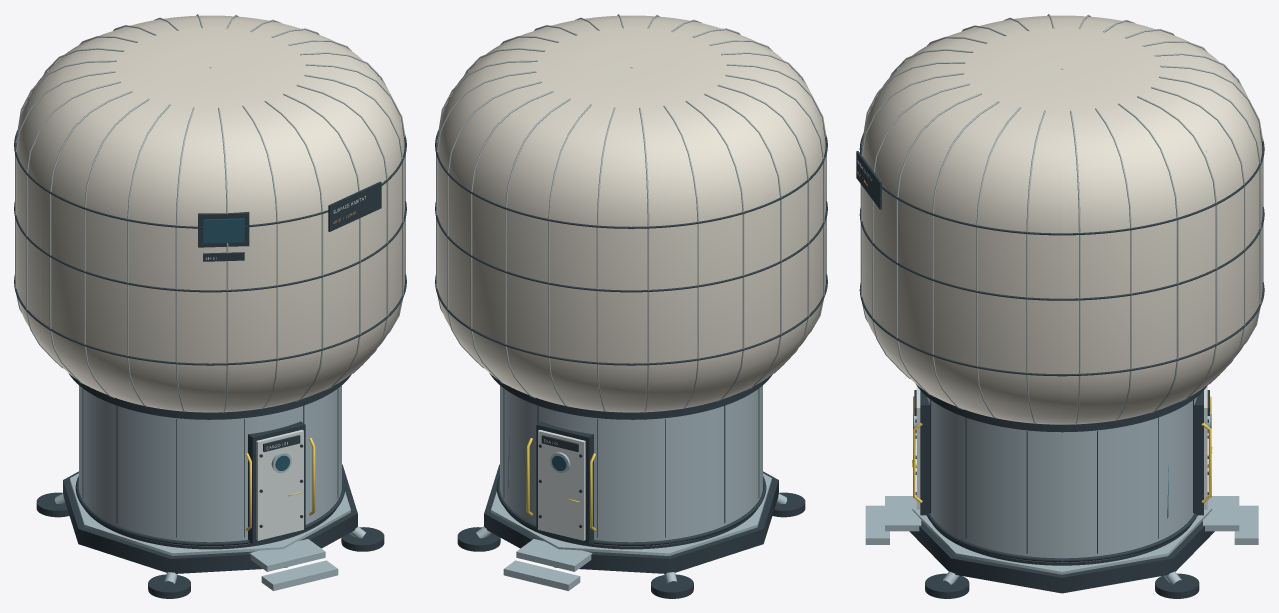
Rendered from Lunar_Surface_Habitat.glb.
3 views of the same model, side by side, from view 1: azimuth 30°, elevation 25°; view 2: azimuth 150°, elevation 25°; view 3: azimuth 270°, elevation 25° (orthographic). The views are drawn at different scales.
Parts seen in each view (by area): view 1: Inflatable | removable front shell, Metal pressure vessel | section.001, Inflatable | retained shell 6.5 m x 5.2 m, Foundation | octagonal landing deck, External hatch | leaf, Foundation | top plate, Metal pressure vessel | section, L2 | structural deck, External hatch | coaming, Identity | dark inset, EVA | exterior step, EVA | lower step (+22 smaller); view 2: Inflatable | retained shell 6.5 m x 5.2 m, Metal pressure vessel | section, Inflatable | removable front shell, Foundation | octagonal landing deck, External hatch | leaf.001, Foundation | top plate, Metal pressure vessel | section.001, L2 | structural deck, External hatch | coaming.001, EVA | exterior step | north, EVA | lower step | north, Restraint webbing | circumferential.002 (+19 smaller); view 3: Inflatable | retained shell 6.5 m x 5.2 m, Inflatable | removable front shell, Metal pressure vessel | section.001, Metal pressure vessel | section, Foundation | octagonal landing deck, Foundation | top plate, L2 | structural deck, External hatch | coaming, EVA | exterior step | north, External hatch | coaming.001, EVA | exterior step, L1 | structural deck (+26 smaller).
Boxes of the visible parts, x1=… form: Inflatable | removable front shell: x1=42, y1=45, x2=404, y2=412; Metal pressure vessel | section.001: x1=96, y1=385, x2=341, y2=546; Inflatable | retained shell 6.5 m x 5.2 m: x1=16, y1=15, x2=353, y2=377; Foundation | octagonal landing deck: x1=63, y1=464, x2=357, y2=573; External hatch | leaf: x1=256, y1=430, x2=303, y2=540; Foundation | top plate: x1=70, y1=473, x2=350, y2=555; Metal pressure vessel | section: x1=79, y1=385, x2=96, y2=513; L2 | structural deck: x1=68, y1=373, x2=351, y2=419; External hatch | coaming: x1=248, y1=421, x2=305, y2=544; Identity | dark inset: x1=328, y1=181, x2=381, y2=231; EVA | exterior step: x1=249, y1=539, x2=325, y2=571; EVA | lower step: x1=261, y1=560, x2=338, y2=590; Inflatable | retained shell 6.5 m x 5.2 m: x1=437, y1=45, x2=799, y2=412; Metal pressure vessel | section: x1=500, y1=385, x2=745, y2=546; Inflatable | removable front shell: x1=488, y1=15, x2=825, y2=377; Foundation | octagonal landing deck: x1=484, y1=464, x2=778, y2=573; External hatch | leaf.001: x1=538, y1=430, x2=585, y2=540; Foundation | top plate: x1=491, y1=473, x2=771, y2=555; Metal pressure vessel | section.001: x1=745, y1=385, x2=762, y2=513; L2 | structural deck: x1=489, y1=373, x2=772, y2=419; External hatch | coaming.001: x1=536, y1=421, x2=593, y2=544; EVA | exterior step | north: x1=516, y1=539, x2=592, y2=571; EVA | lower step | north: x1=503, y1=560, x2=580, y2=590; Restraint webbing | circumferential.002: x1=435, y1=130, x2=801, y2=228; Inflatable | retained shell 6.5 m x 5.2 m: x1=1062, y1=15, x2=1262, y2=424; Inflatable | removable front shell: x1=862, y1=15, x2=1062, y2=424; Metal pressure vessel | section.001: x1=927, y1=397, x2=1062, y2=562; Metal pressure vessel | section: x1=1062, y1=397, x2=1197, y2=562; Foundation | octagonal landing deck: x1=909, y1=521, x2=1214, y2=593; Foundation | top plate: x1=912, y1=504, x2=1211, y2=574; L2 | structural deck: x1=915, y1=383, x2=1207, y2=432; External hatch | coaming: x1=920, y1=390, x2=930, y2=515; EVA | exterior step | north: x1=1203, y1=496, x2=1239, y2=531; External hatch | coaming.001: x1=1194, y1=391, x2=1203, y2=515; EVA | exterior step: x1=885, y1=496, x2=921, y2=531; L1 | structural deck: x1=932, y1=523, x2=1192, y2=565.
Size of the model in its own units: 6.57 by 8.44 by 6.62.
